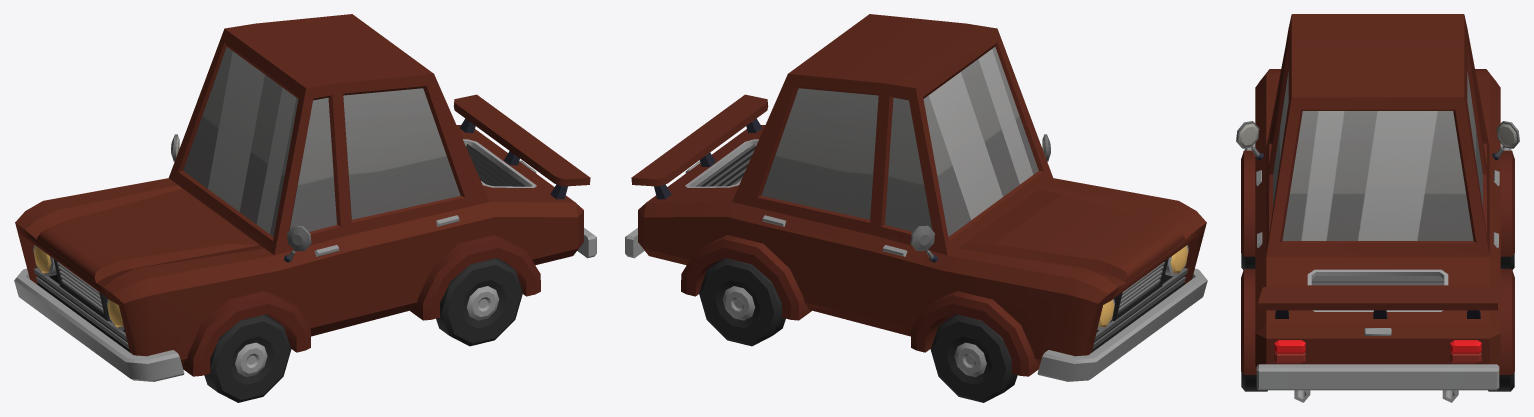
The model's file is Car_6_P.gltf.
3 views of the same model, side by side, from view 1: azimuth 30°, elevation 25°; view 2: azimuth 150°, elevation 25°; view 3: azimuth 270°, elevation 25° (orthographic). The views are drawn at different scales.
Visible parts, largest first — view 1: Car_6_P, RL, FL; view 2: Car_6_P, RR, FR; view 3: Car_6_P, RL, RR.
Boxes of the visible parts, x1,y1,x2,y2 form: Car_6_P: (14,14,596,381); RL: (436,258,522,346); FL: (204,314,291,402); Car_6_P: (625,14,1207,381); RR: (699,258,785,346); FR: (930,314,1017,402); Car_6_P: (1236,14,1519,402); RL: (1241,372,1267,391); RR: (1488,372,1514,391).
Bounding box in the file's own units: 3.1 × 1.72 × 1.51.
Materials: 4 (4 with a texture image).
